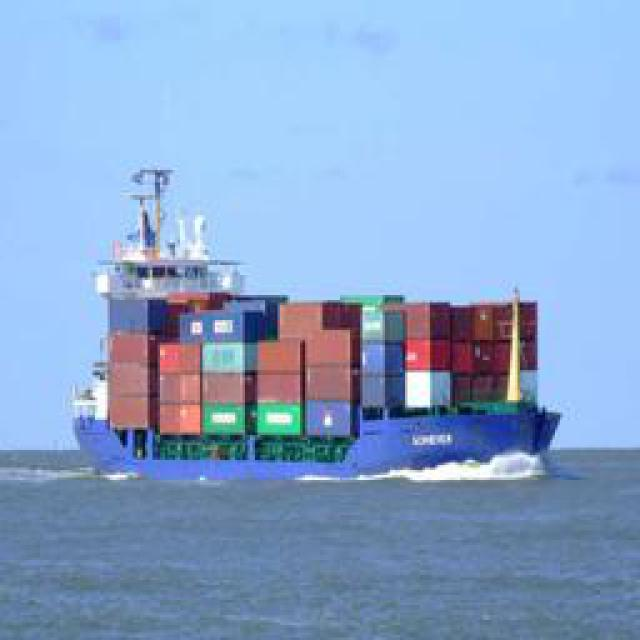Ship: (62, 153, 572, 481)
